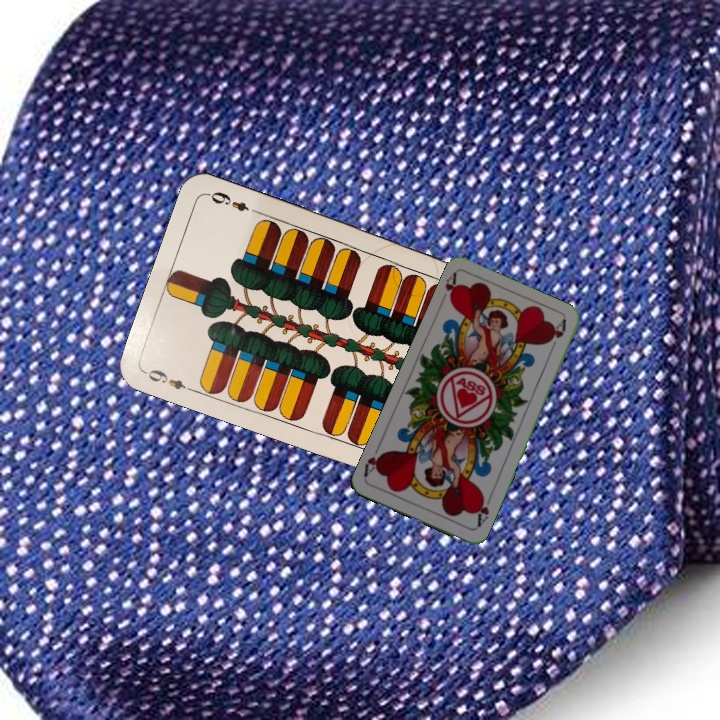E9: (141, 365, 198, 395)
HA: (436, 269, 462, 308), (472, 492, 492, 529)
